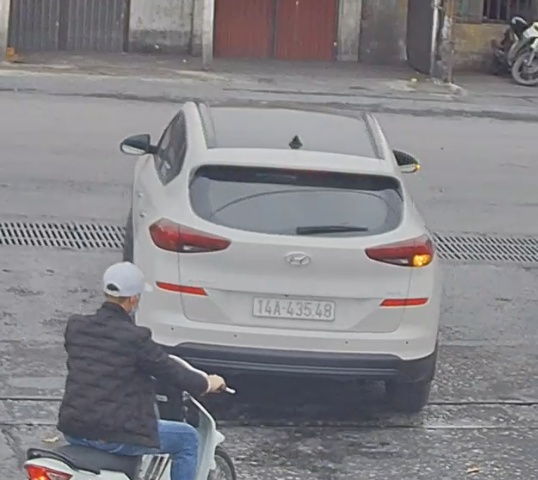vehicle plate: (248, 289, 338, 320)
